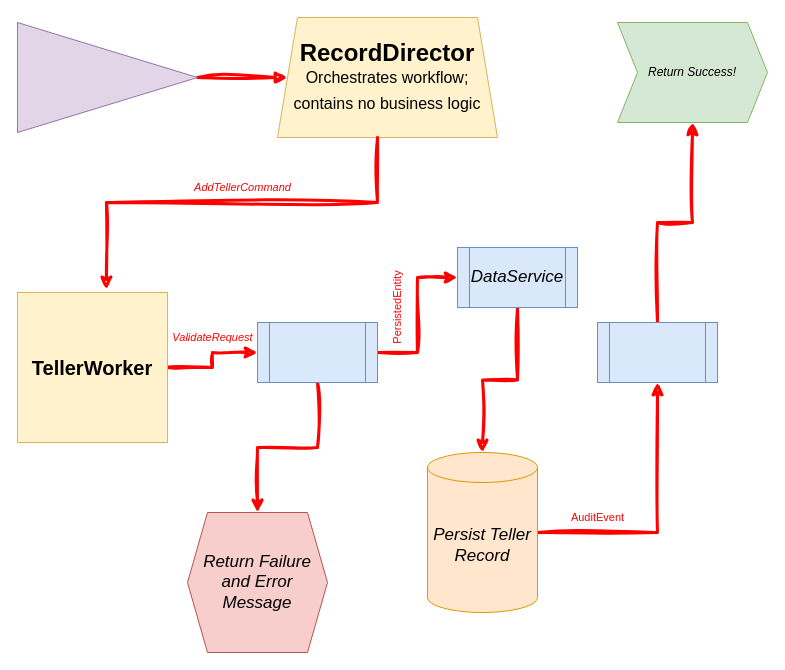
The diagram is 785 pixels wide and 670 high, and some of its shapes have lost their labels. Each missing label, with the centre of its shape:
Client's Add Teller Request: point 107,77
Validation: point 317,352
Write Audit History: point 657,352
